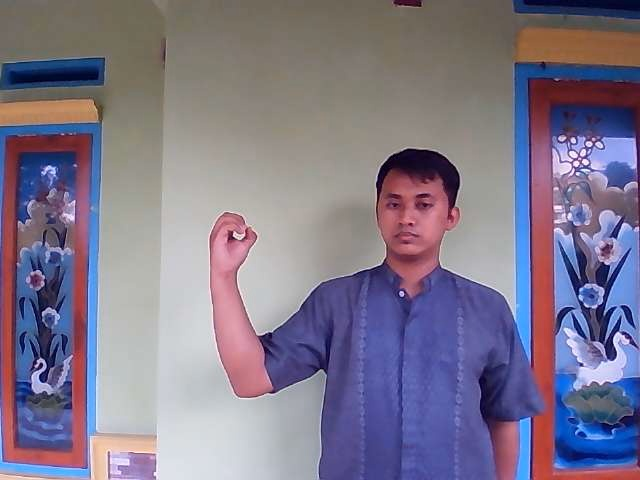O: (204, 210, 259, 276)
